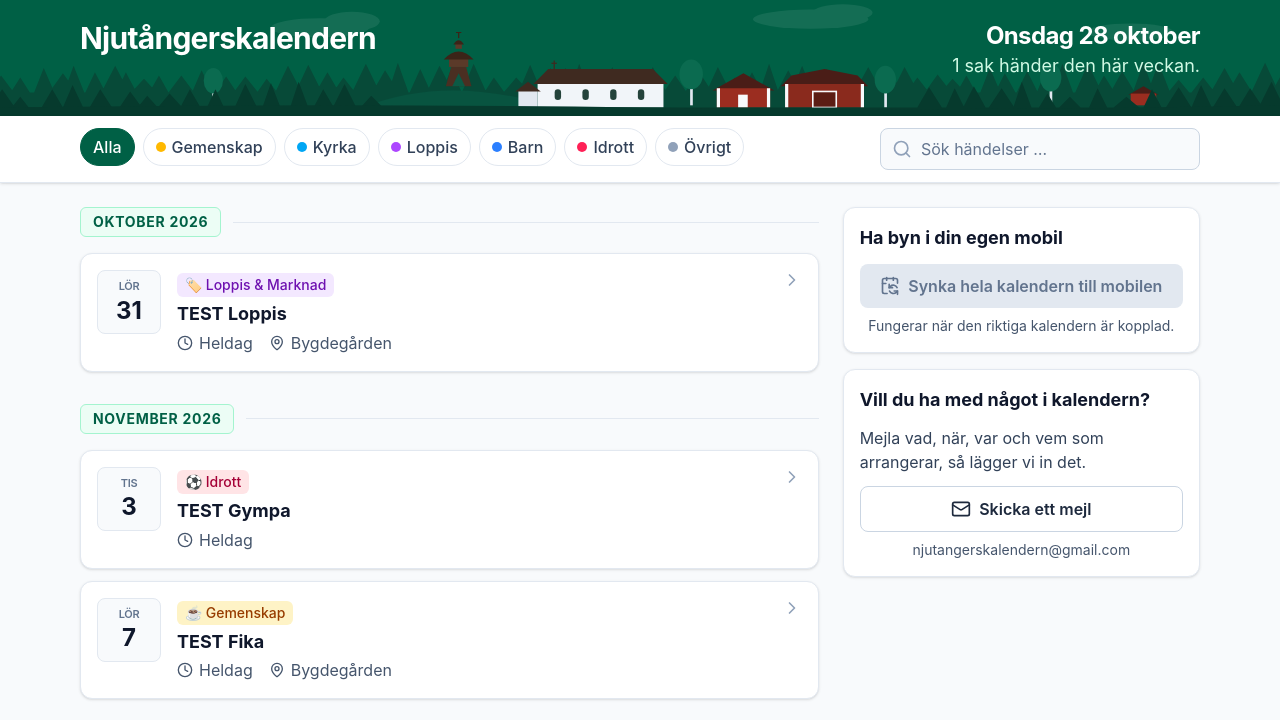
Test: kategorifiltret › visar bara vald kategori och fungerar tillsammans med sökningen
Click the button "Gemenskap" at x=209, y=147, box x1=142 y1=128 x2=276 y2=166
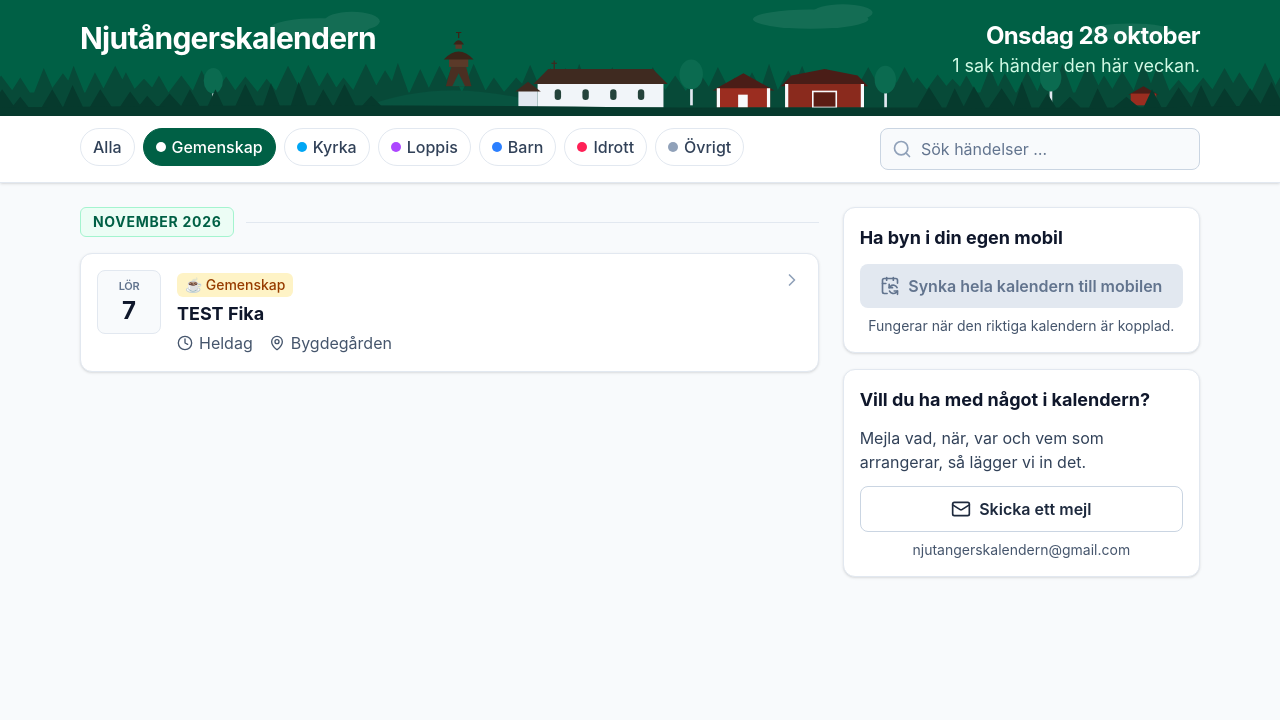
Expected: the button "Gemenskap" is pressed, x1=142 y1=128 x2=276 y2=166
Expected: the button "Alla" is not pressed, x1=80 y1=128 x2=134 y2=166
Type "bygdegården" into the search field labelled "Sök händelser" at x=1040, y=149, box x1=880 y1=128 x2=1200 y2=170
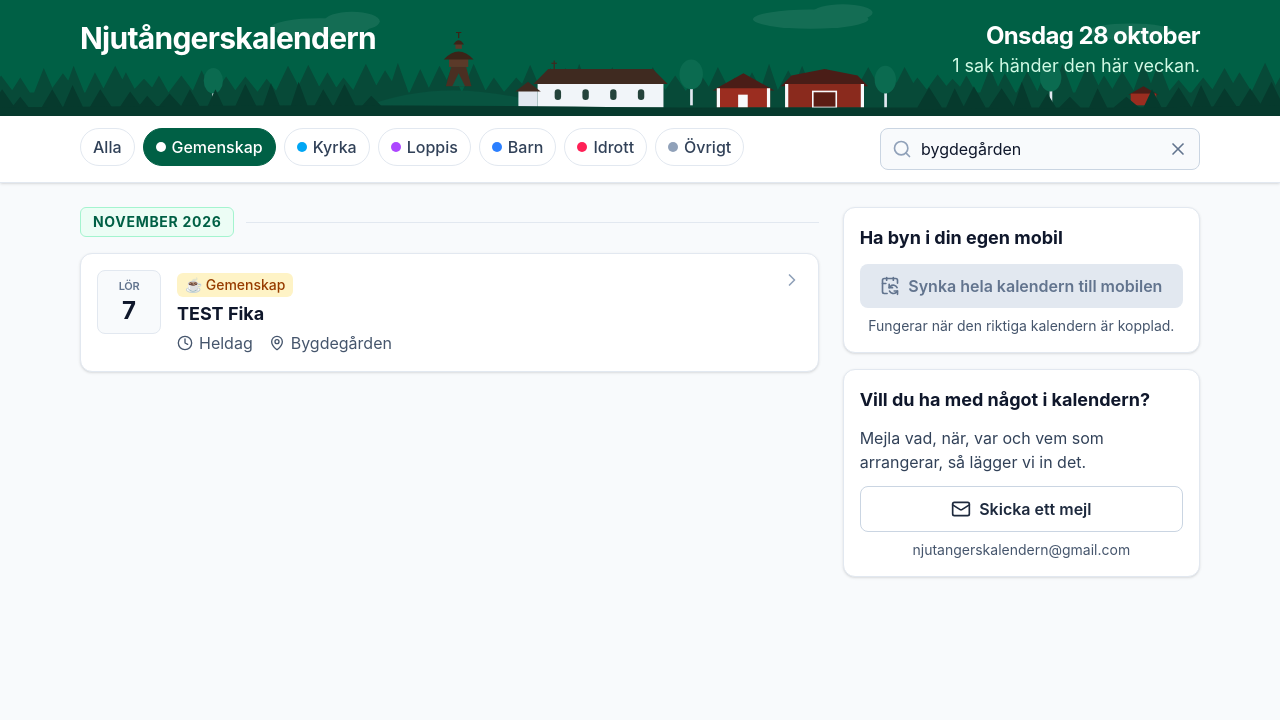
Expected: the button "TEST Fika" is shown, x1=81 y1=254 x2=818 y2=371
Expected: the button "TEST Loppis" is not shown
Click the button "Alla" at x=107, y=147, box x1=80 y1=128 x2=134 y2=166
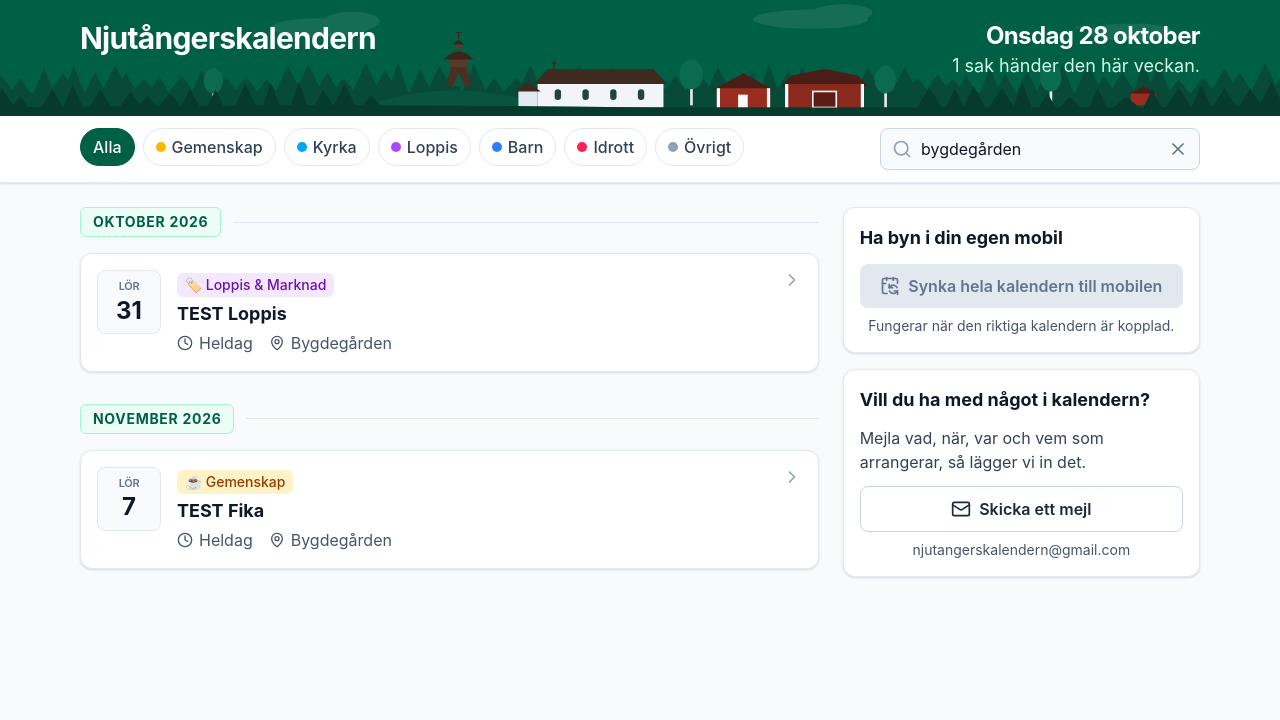
Expected: the button "TEST Loppis" is shown, x1=81 y1=254 x2=818 y2=371
